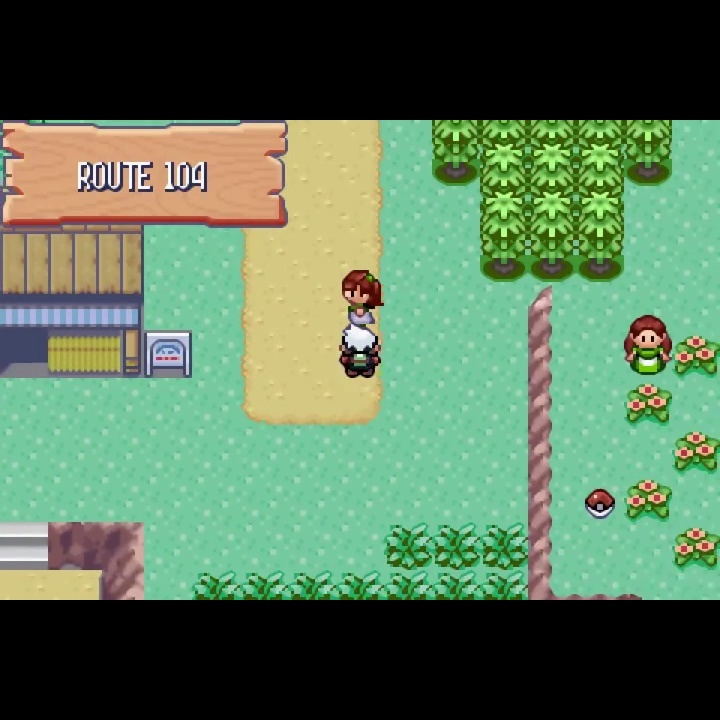grass: (479, 523, 527, 571), (385, 523, 433, 570), (434, 523, 479, 570), (385, 570, 436, 600), (480, 570, 528, 600), (434, 570, 481, 600), (190, 572, 240, 600), (241, 571, 289, 600), (337, 571, 385, 600), (290, 572, 338, 600)
house: (1, 226, 144, 378)
npc: (621, 312, 676, 377), (337, 267, 387, 324), (337, 323, 384, 383)
wall: (479, 191, 529, 284), (529, 190, 577, 283), (578, 191, 626, 283), (430, 120, 480, 187), (626, 120, 673, 187), (479, 141, 530, 192), (577, 144, 626, 192), (529, 143, 577, 191), (576, 120, 625, 143), (481, 120, 530, 143), (529, 120, 579, 142)
